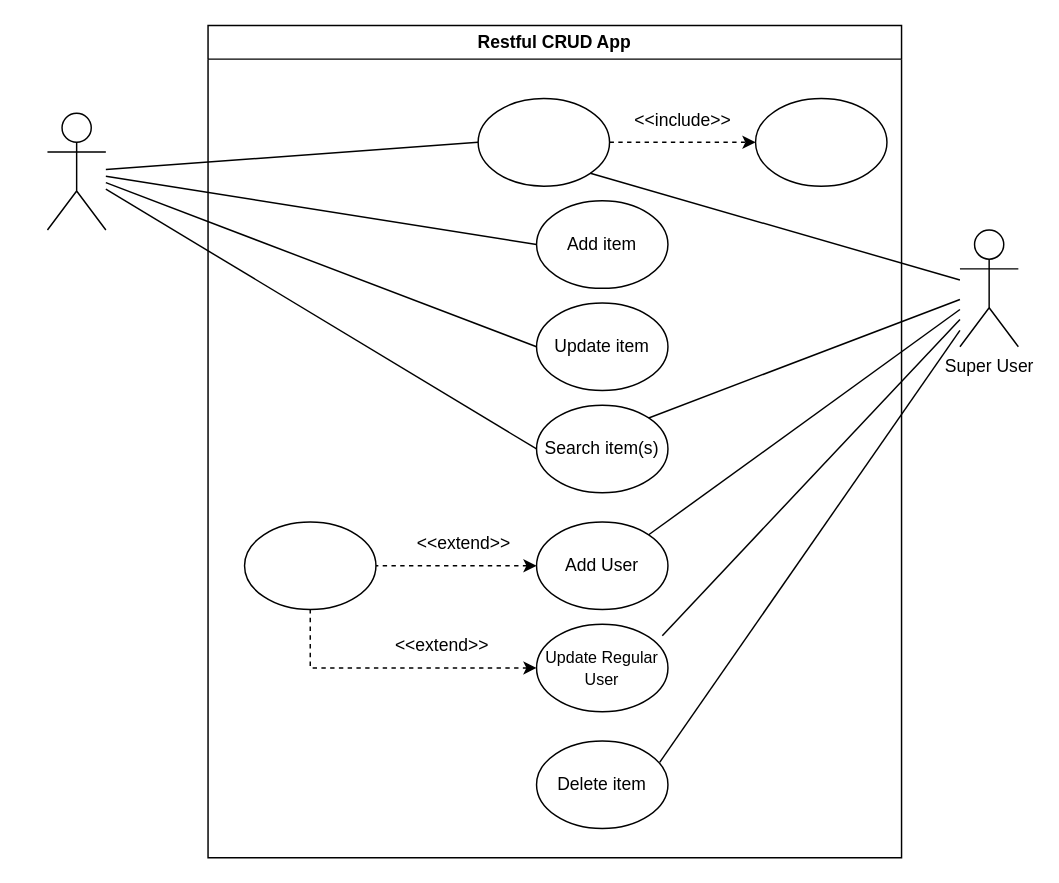
This 1059x883 diagram has some shape labels left out. Each missing label, with the box of its shape:
Authentication: (754, 97, 887, 186)
Login to app: (477, 97, 610, 186)
Regular User: (46, 112, 106, 230)
Role Management: (243, 520, 376, 610)
